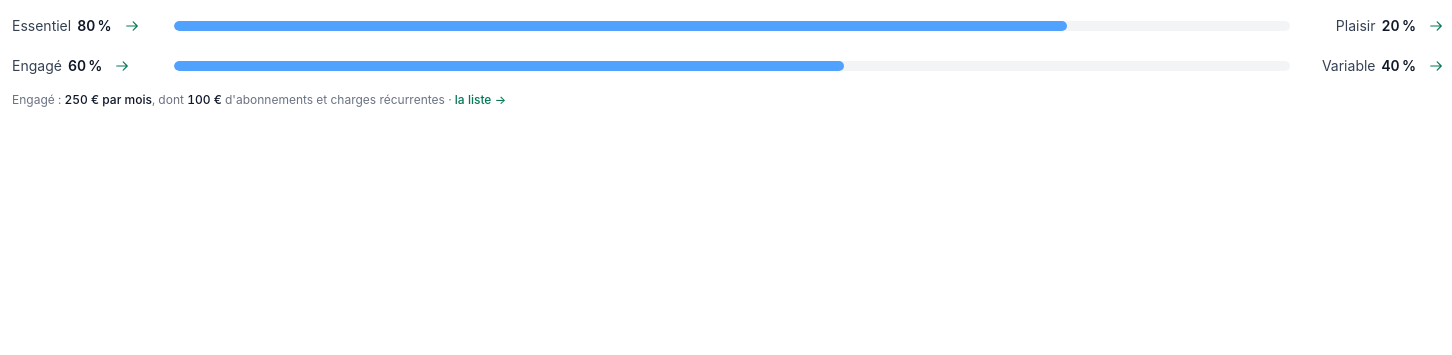
Test: StructureLines › unfolding a segment › opens the segment under its own line, in place, without leaving the page
Click the button "Plaisir 20 %": click(1376, 26) [1336,12,1416,40]
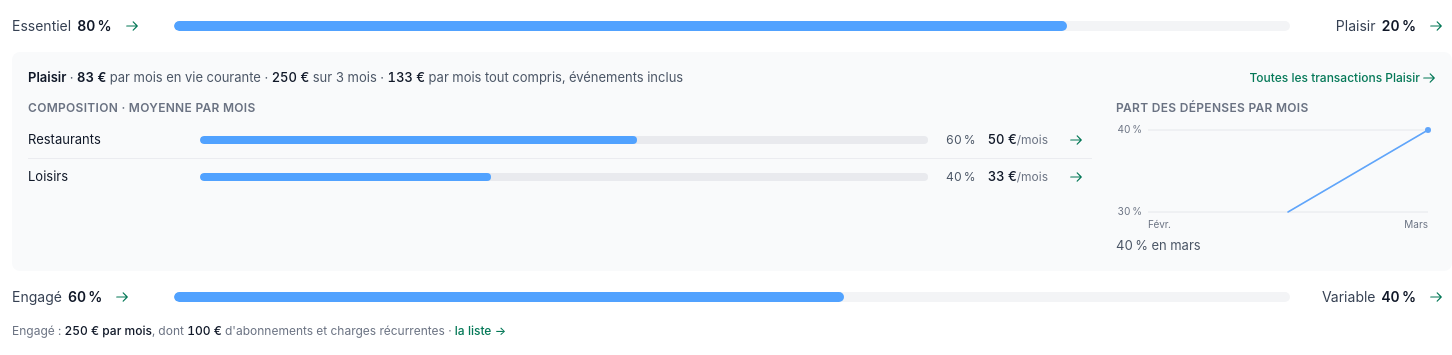
Expected: the list item with test id "structure-panel-row-Restaurants" is shown, [28,122,1092,158]
